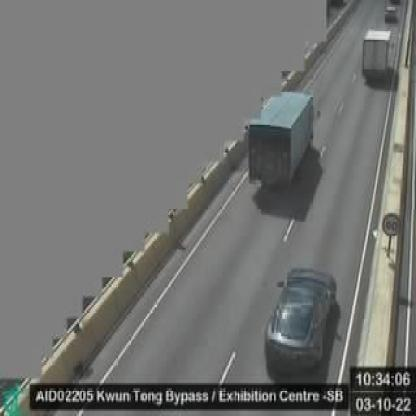Car: (264, 266, 337, 375)
Truck: (248, 92, 312, 187), (360, 29, 393, 85)
